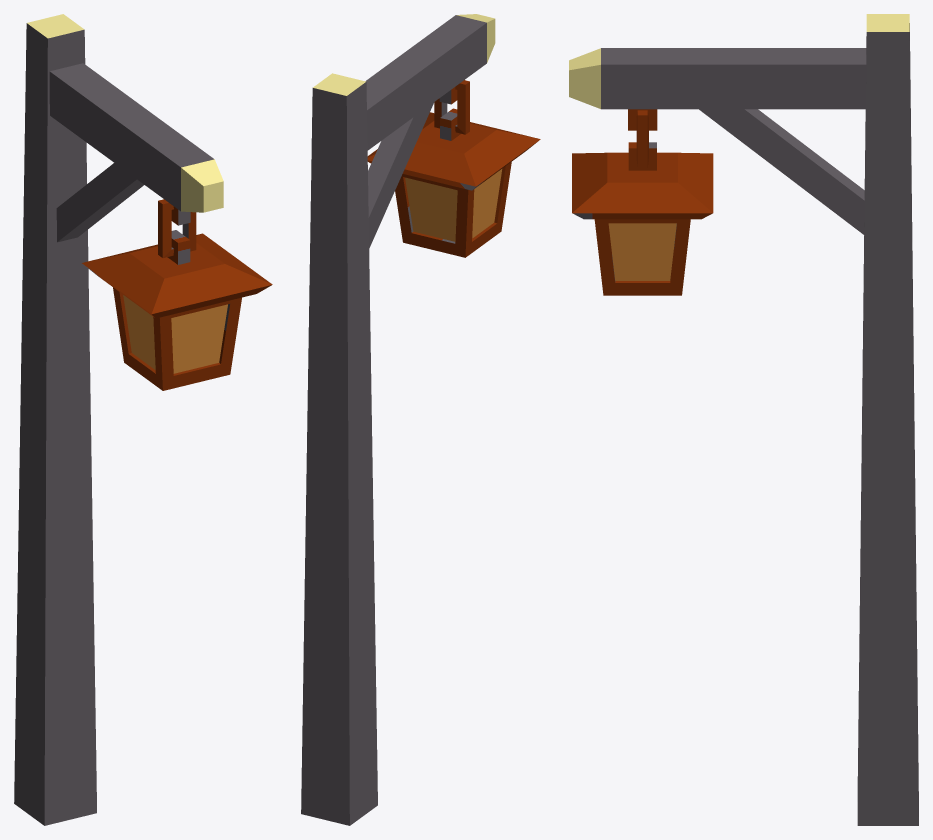
The model's file is Lantern.fbx.
3 renders of one model, left to right at view 1: azimuth 30°, elevation 25°; view 2: azimuth 150°, elevation 25°; view 3: azimuth 270°, elevation 25°, orthographic. The views are drawn at different scales.
Parts seen in each view (by area): view 1: Lantern_01; view 2: Lantern_01; view 3: Lantern_01.
Part boxes in pixels (left/top/right/bottom): Lantern_01: left=14, top=14, right=272, bottom=825; Lantern_01: left=301, top=14, right=540, bottom=825; Lantern_01: left=569, top=14, right=918, bottom=825.
Bounding box in the file's own units: 57.6 × 355 × 143.
